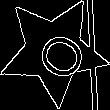O_NW: (21, 19, 86, 82)
